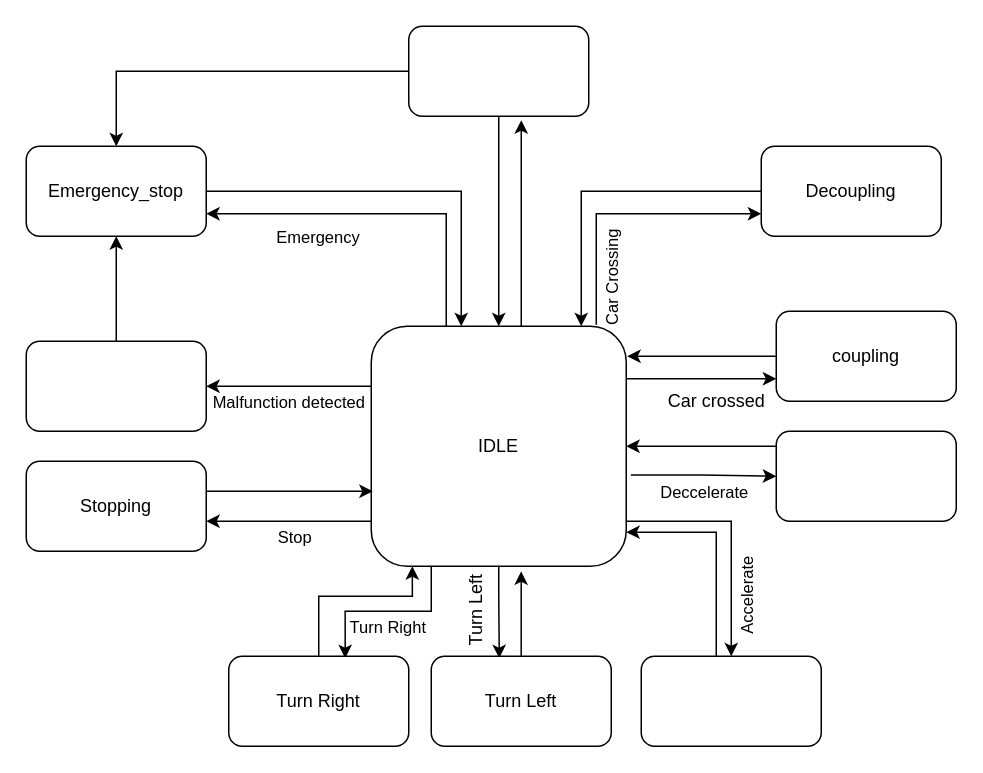
The diagram is 983 pixels wide and 773 high, and some of its shapes have lost their labels. Here are the shapes that lost their labels. From the top down, the centre of each, then its label:
At (x=498, y=70): "Connection_ lost".
At (x=115, y=385): "Truck_Malfunction".
At (x=865, y=475): "Deccelerating".
At (x=730, y=700): "Accelerating".
